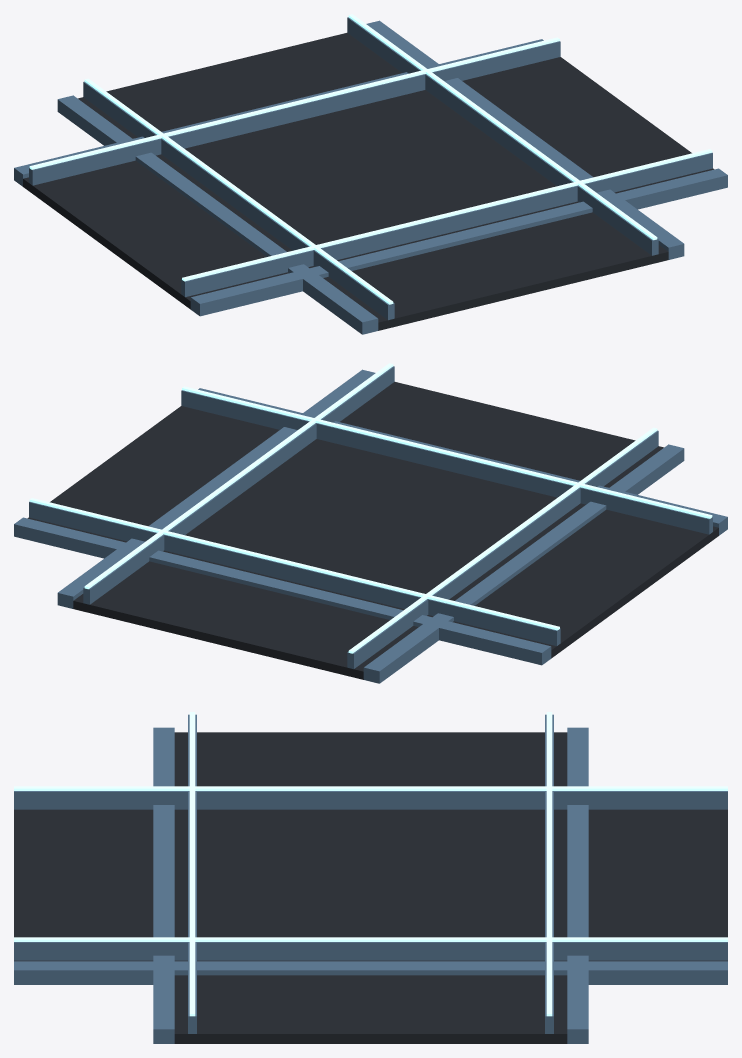
Rendered from road_future_cross_lod1.glb.
3 views of the same model, one above another, from view 1: azimuth 30°, elevation 25°; view 2: azimuth 150°, elevation 25°; view 3: azimuth 270°, elevation 25° (orthographic). The views are drawn at different scales.
Parts seen in each view (by area): view 1: body; view 2: body; view 3: body.
Part boxes in pixels (left/top/right/bottom): body: left=14, top=14, right=727, bottom=334; body: left=14, top=363, right=727, bottom=683; body: left=14, top=712, right=727, bottom=1043.
Size of the model in its own units: 8 by 0.37 by 8.
